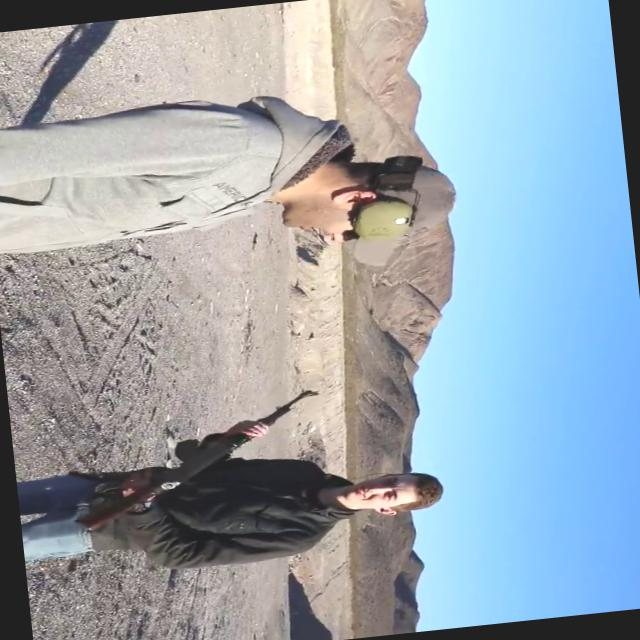long weapon: (63, 373, 342, 544)
